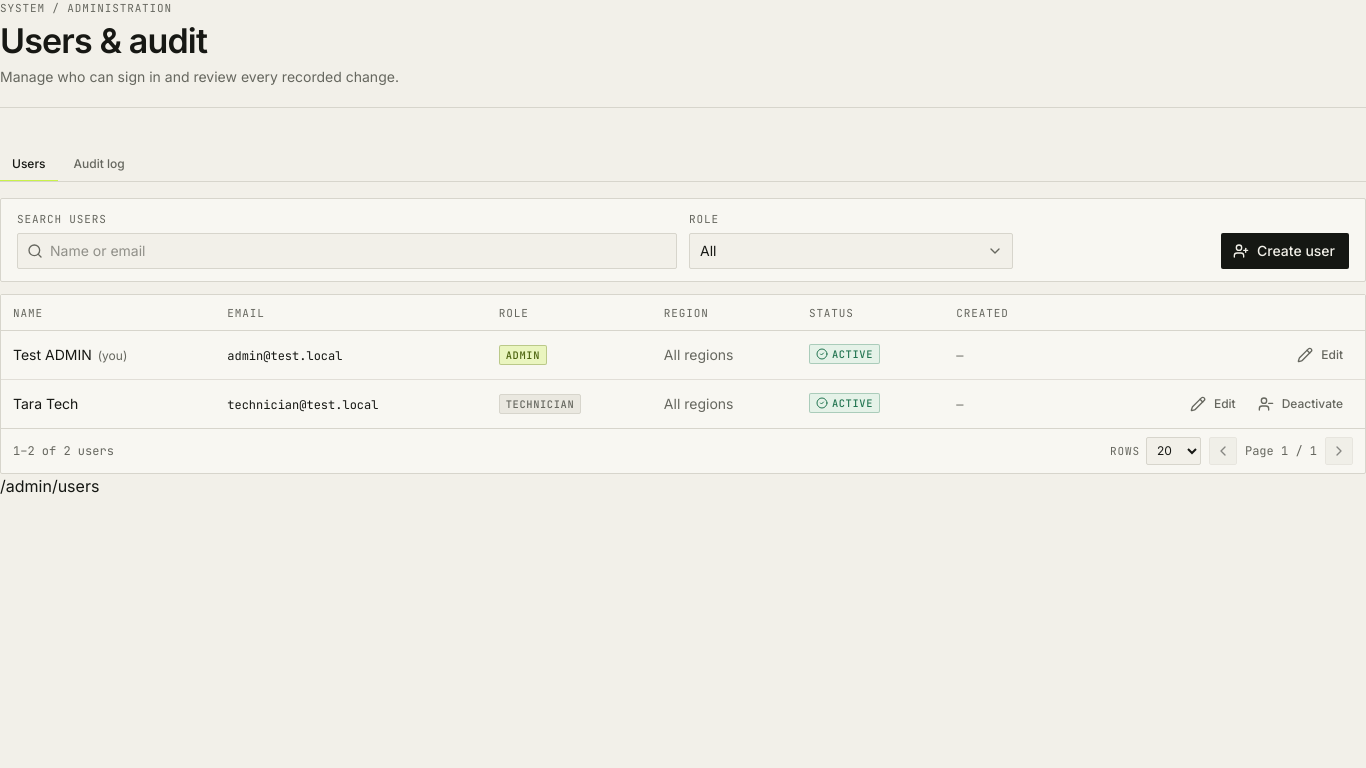
it: AdminUsersPage › creates a user and shows a 409 conflict message from the server
The width and height of the screenshot is (1366, 768).
Expected: the text "Tara Tech" is shown, [13, 394, 78, 412]
Click the button "Create user". click: (1285, 250)
box: [1221, 232, 1349, 268]
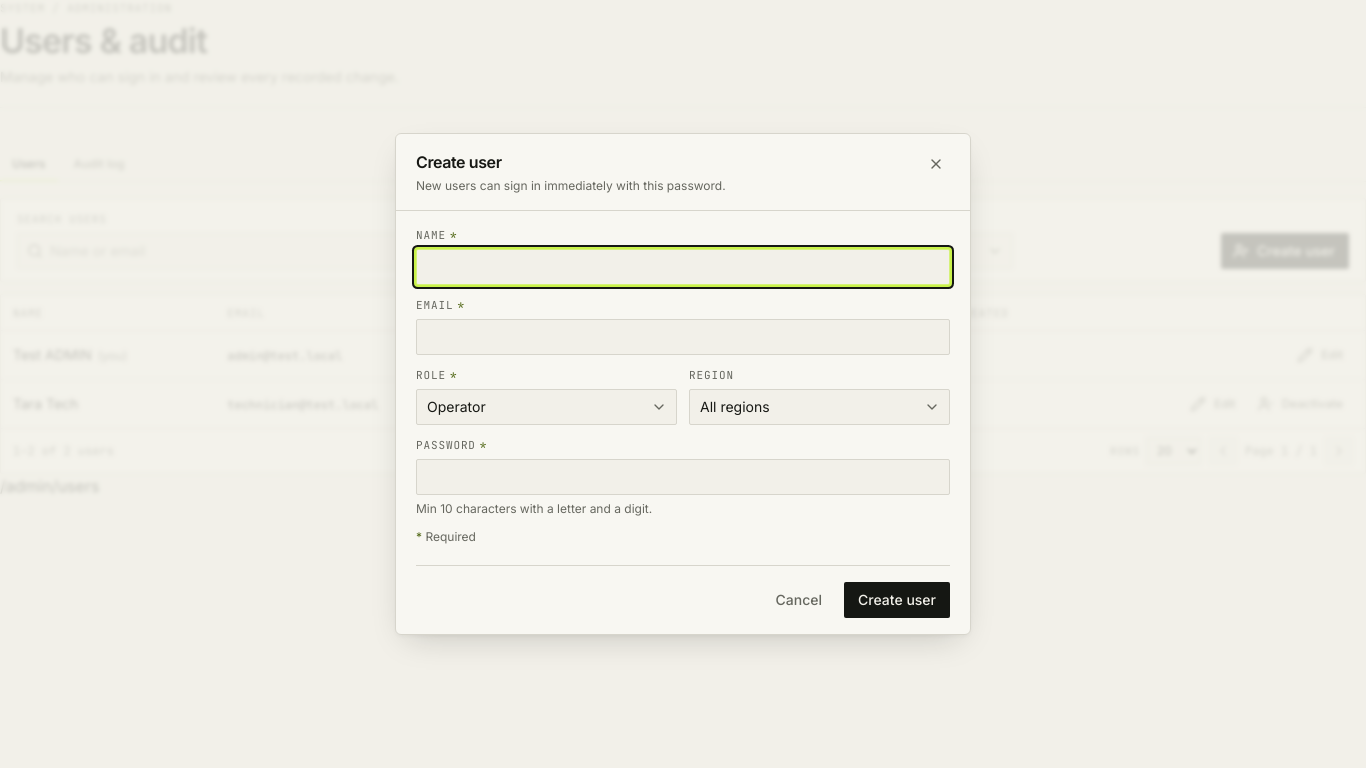
Type "New Person" into the field labelled "Name*". click: (683, 267)
box: [416, 249, 950, 285]
Type "new@test.local" into the field labelled "Email*". click: (683, 337)
box: [416, 319, 950, 355]
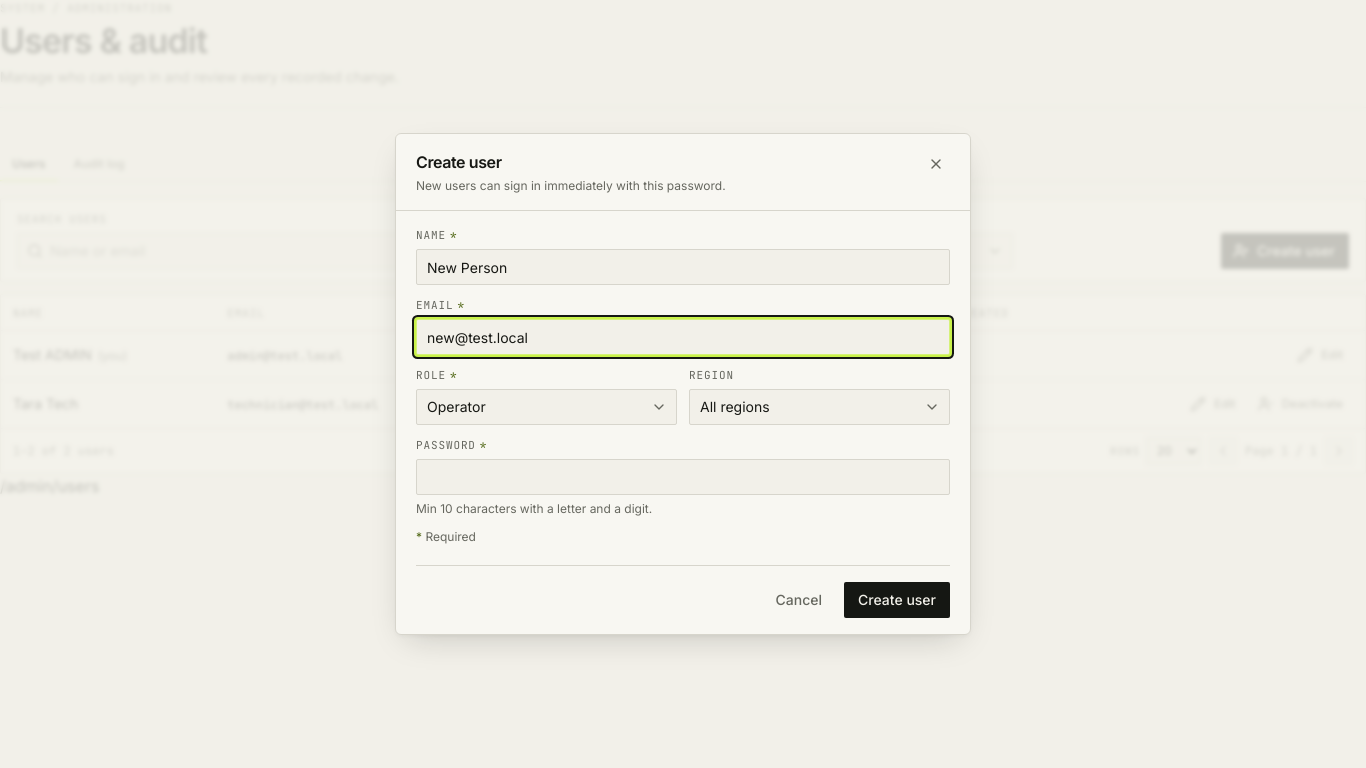
Type "abcdefghij1" into the password field labelled "Password*". click: (683, 477)
box: [416, 459, 950, 495]
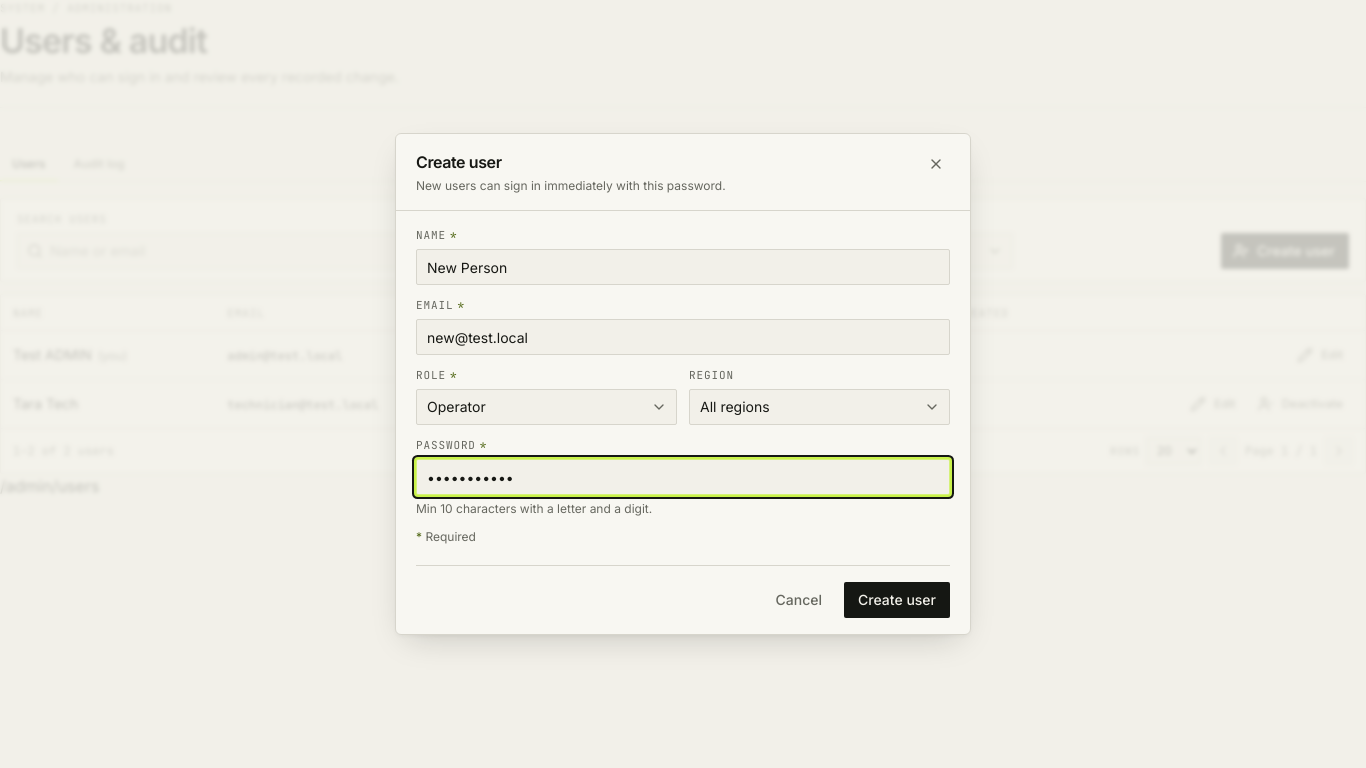
Select "Technician" in the dropdown labelled "Role*". click: (546, 407)
box: [416, 389, 677, 425]
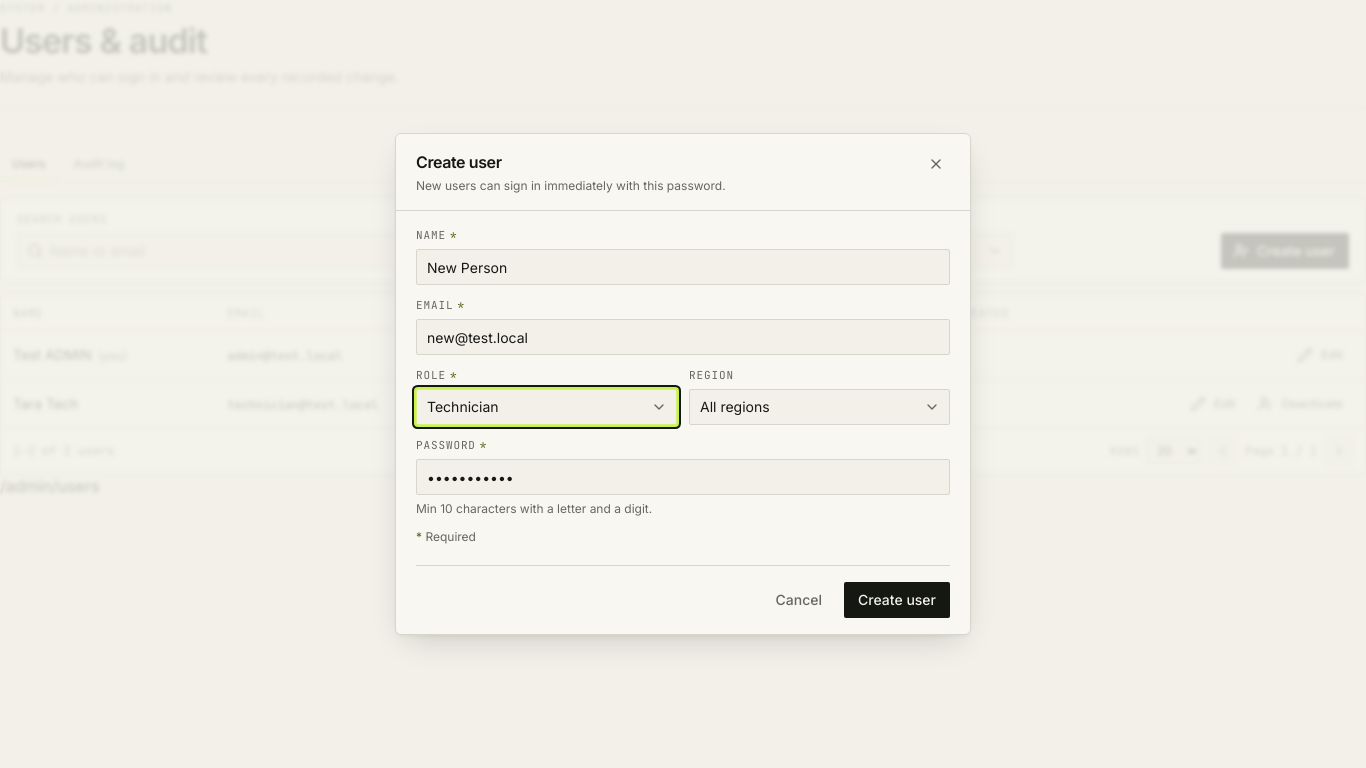
Select "Harbour" in the dropdown labelled "Region". click: (820, 407)
box: [689, 389, 950, 425]
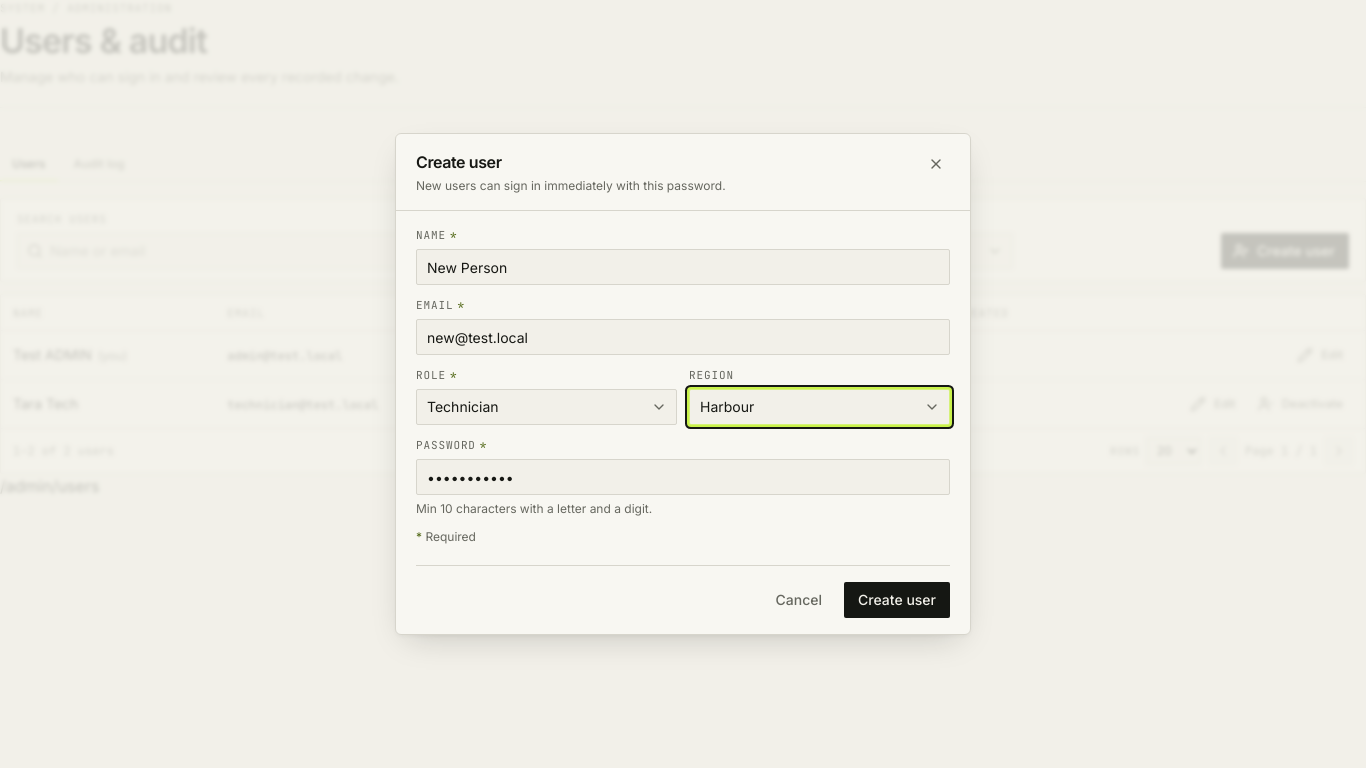
Click the button "Create user". click: (897, 600)
box: [844, 582, 950, 618]
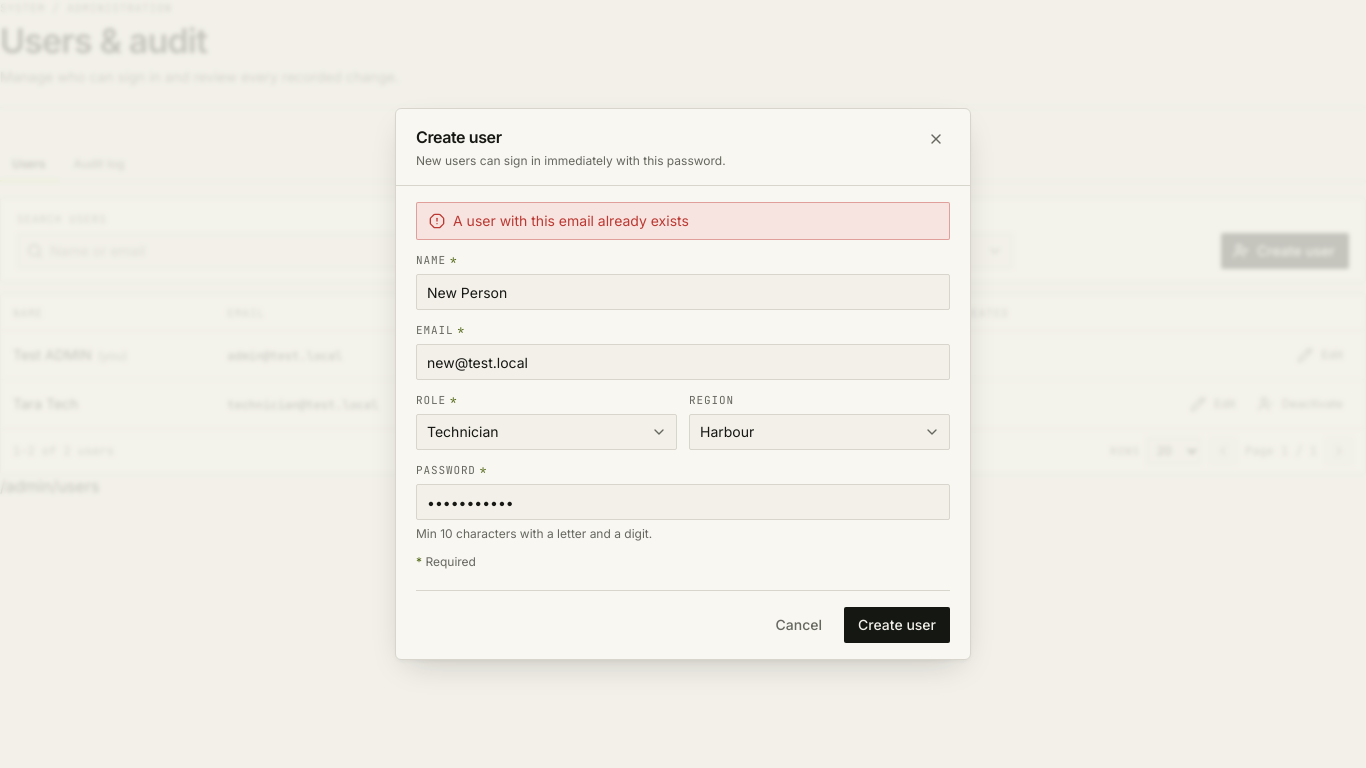
Expected: the text "A user with this email already exists" is shown, [416, 202, 950, 240]
